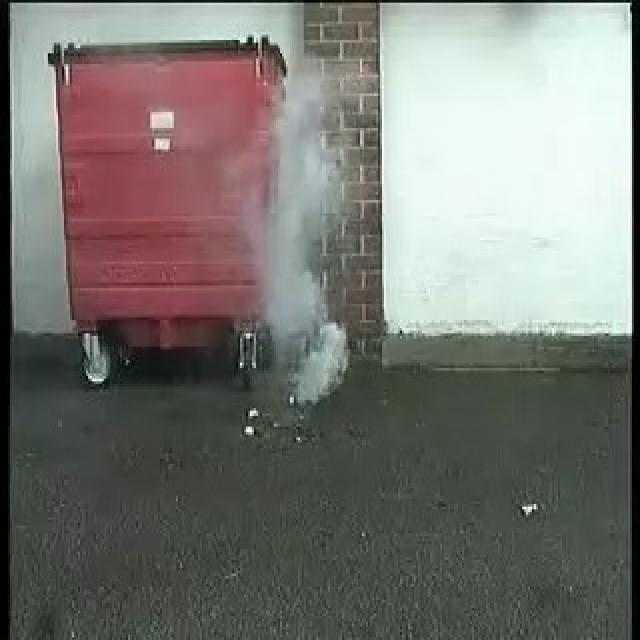smoke: (248, 75, 347, 409)
